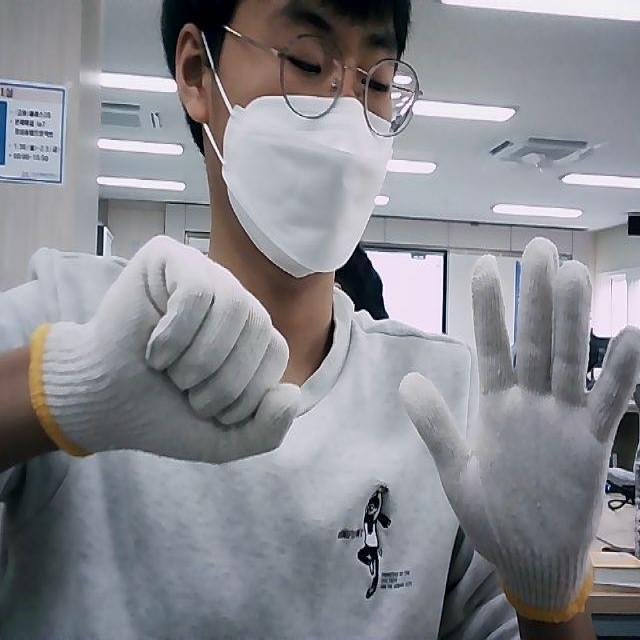gloves: (400, 238, 640, 620), (30, 236, 302, 468)
